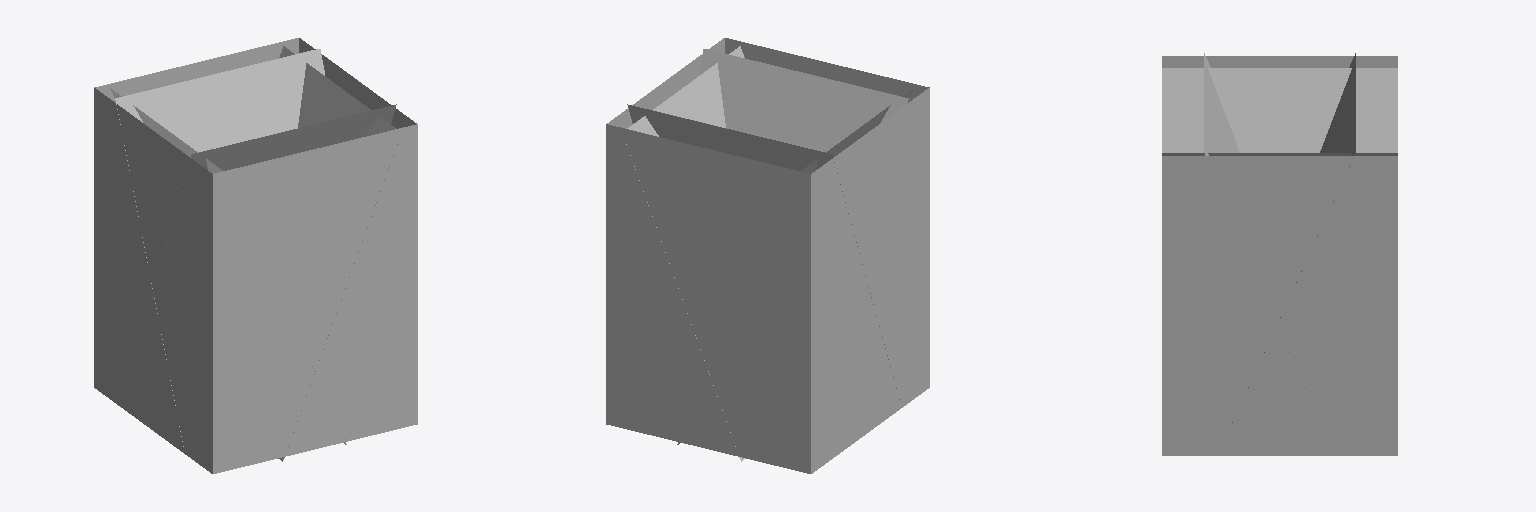
The model's file is fire_model.obj.
The picture shows the model from 3 angles: view 1: azimuth 30°, elevation 25°; view 2: azimuth 150°, elevation 25°; view 3: azimuth 270°, elevation 25°; orthographic projection.
Parts seen in each view (by area): view 1: fireside1.002, fireside1, firemiddle1, firemiddle2, fireside1.001, firemiddle3, fireside1.003, firemiddle4; view 2: fireside1.001, fireside1, firemiddle2, firemiddle1, fireside1.002, firemiddle3, fireside1.003, firemiddle4; view 3: fireside1.003, firemiddle4, fireside1, firemiddle1, firemiddle2, firemiddle3.
Part boxes in pixels (left/top/right/bottom): fireside1.002: left=213, top=124, right=417, bottom=473; fireside1: left=94, top=88, right=212, bottom=473; firemiddle1: left=115, top=49, right=324, bottom=446; firemiddle2: left=124, top=104, right=396, bottom=399; fireside1.001: left=94, top=38, right=298, bottom=102; firemiddle3: left=278, top=46, right=397, bottom=461; fireside1.003: left=299, top=38, right=416, bottom=128; firemiddle4: left=110, top=88, right=346, bottom=444; fireside1.001: left=606, top=124, right=810, bottom=473; fireside1: left=811, top=88, right=929, bottom=473; firemiddle2: left=699, top=49, right=908, bottom=446; firemiddle1: left=627, top=104, right=899, bottom=399; fireside1.002: left=725, top=38, right=929, bottom=102; firemiddle3: left=626, top=46, right=745, bottom=461; fireside1.003: left=607, top=38, right=724, bottom=128; firemiddle4: left=677, top=88, right=913, bottom=444; fireside1.003: left=1162, top=156, right=1397, bottom=455; firemiddle4: left=1162, top=68, right=1397, bottom=152; fireside1: left=1162, top=56, right=1397, bottom=67; firemiddle1: left=1232, top=53, right=1355, bottom=422; firemiddle2: left=1204, top=53, right=1327, bottom=422; firemiddle3: left=1162, top=153, right=1397, bottom=155.
Size of the model in its own units: 1 by 1.44 by 1.